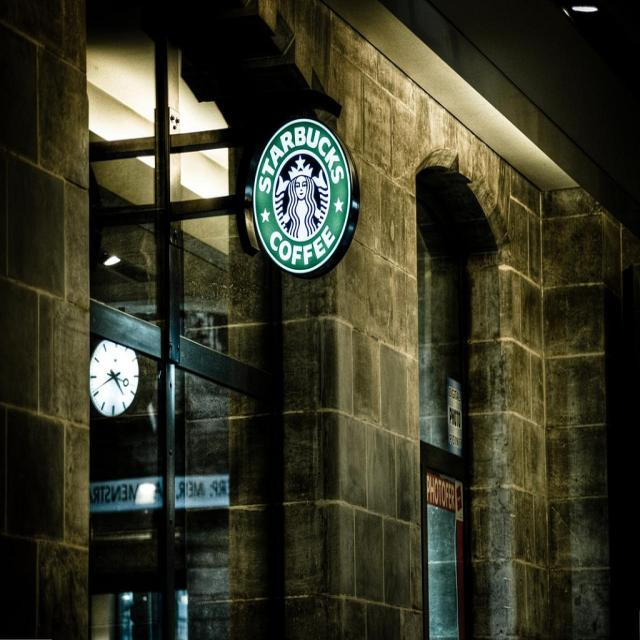starbucks: (252, 118, 353, 273)
